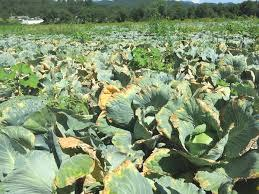Bok-Choy-Diseased: (90, 81, 140, 126), (57, 137, 95, 186), (104, 158, 152, 194)
